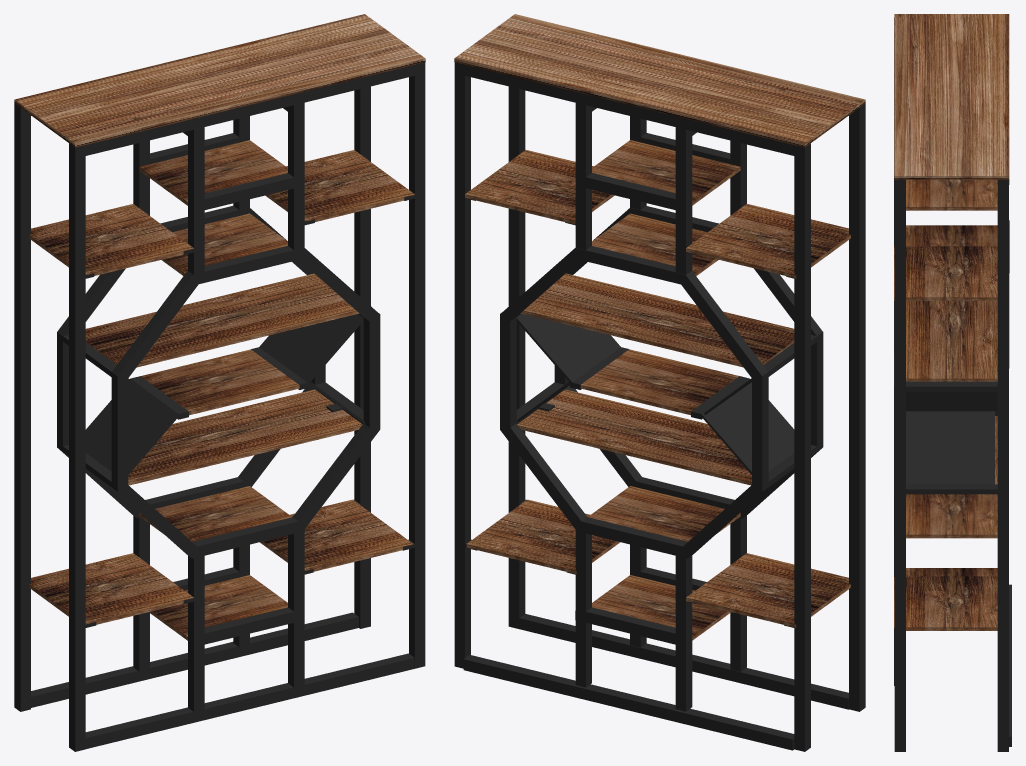
Rendered from etagere_3.glb.
3 renders of one model, left to right at view 1: azimuth 30°, elevation 25°; view 2: azimuth 150°, elevation 25°; view 3: azimuth 270°, elevation 25°, orthographic. The views are drawn at different scales.
Visible parts, largest first — view 1: Cube.036, Cube.024, Cube.127, Cube.119, Cube.026, Cube.121, Cube.109, Cube.183, Cube.014, Cube.043, Cube.120, Cube.123 (+31 smaller); view 2: Cube.036, Cube.024, Cube.127, Cube.119, Cube.026, Cube.120, Cube.109, Cube.183, Cube.121, Cube.014, Cube.126, Cube.123 (+31 smaller); view 3: Cube.036, Cube.024, Cube.120, Cube.121, Cube.009, Cube.123, Cube.184, Cube.008, Cube.028, Cube.037, Cube.017, barre coté .006 (+3 smaller).
Part boxes in pixels (box(x1,y1,x2,y2)): Cube.036: box(14, 14, 425, 147); Cube.024: box(85, 273, 359, 367); Cube.127: box(69, 143, 85, 751); Cube.119: box(14, 103, 30, 711); Cube.026: box(128, 389, 362, 485); Cube.121: box(409, 63, 425, 668); Cube.109: box(29, 204, 193, 275); Cube.183: box(29, 553, 193, 624); Cube.014: box(141, 349, 299, 415); Cube.043: box(85, 653, 414, 748); Cube.120: box(354, 86, 370, 628); Cube.123: box(265, 150, 414, 221); Cube.036: box(454, 14, 865, 147); Cube.024: box(520, 273, 794, 367); Cube.127: box(849, 103, 865, 711); Cube.119: box(794, 143, 810, 751); Cube.026: box(517, 389, 751, 485); Cube.120: box(454, 63, 470, 668); Cube.109: box(686, 204, 850, 278); Cube.183: box(686, 553, 850, 627); Cube.121: box(508, 86, 525, 628); Cube.014: box(580, 349, 739, 415); Cube.126: box(463, 654, 794, 750); Cube.123: box(465, 150, 614, 224); Cube.036: box(894, 14, 1009, 179); Cube.024: box(906, 300, 997, 381); Cube.120: box(997, 179, 1008, 751); Cube.121: box(894, 179, 905, 751); Cube.009: box(906, 411, 994, 484); Cube.123: box(894, 246, 997, 300); Cube.184: box(894, 576, 997, 630); Cube.008: box(906, 494, 997, 538); Cube.028: box(906, 179, 997, 210); Cube.037: box(906, 225, 997, 246); Cube.017: box(906, 391, 997, 411); barre coté .006: box(894, 381, 997, 391).
Bounding box in the file's own units: 1 × 1.66 × 0.3076.
Materials: 97 (14 with a texture image).
